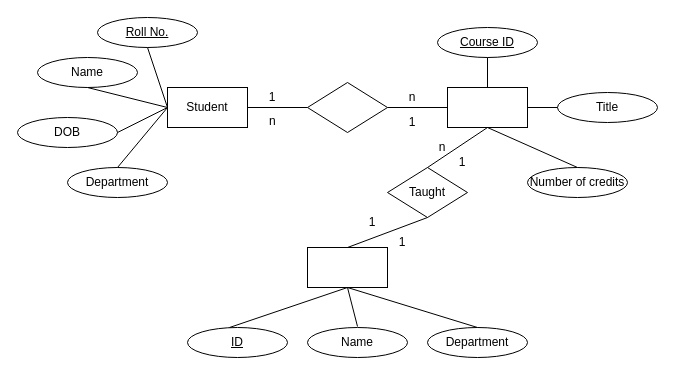
The diagram is 675 pixels wide and 375 high, and some of its shapes have lost their labels. The shapes that lost their labels are listed below. From the top down, each one's box as (x1, y1, x2, y2) in pixels, then its label:
(306, 82, 388, 132): enrolls
(446, 86, 528, 128): Courses
(306, 246, 388, 288): Instructor
